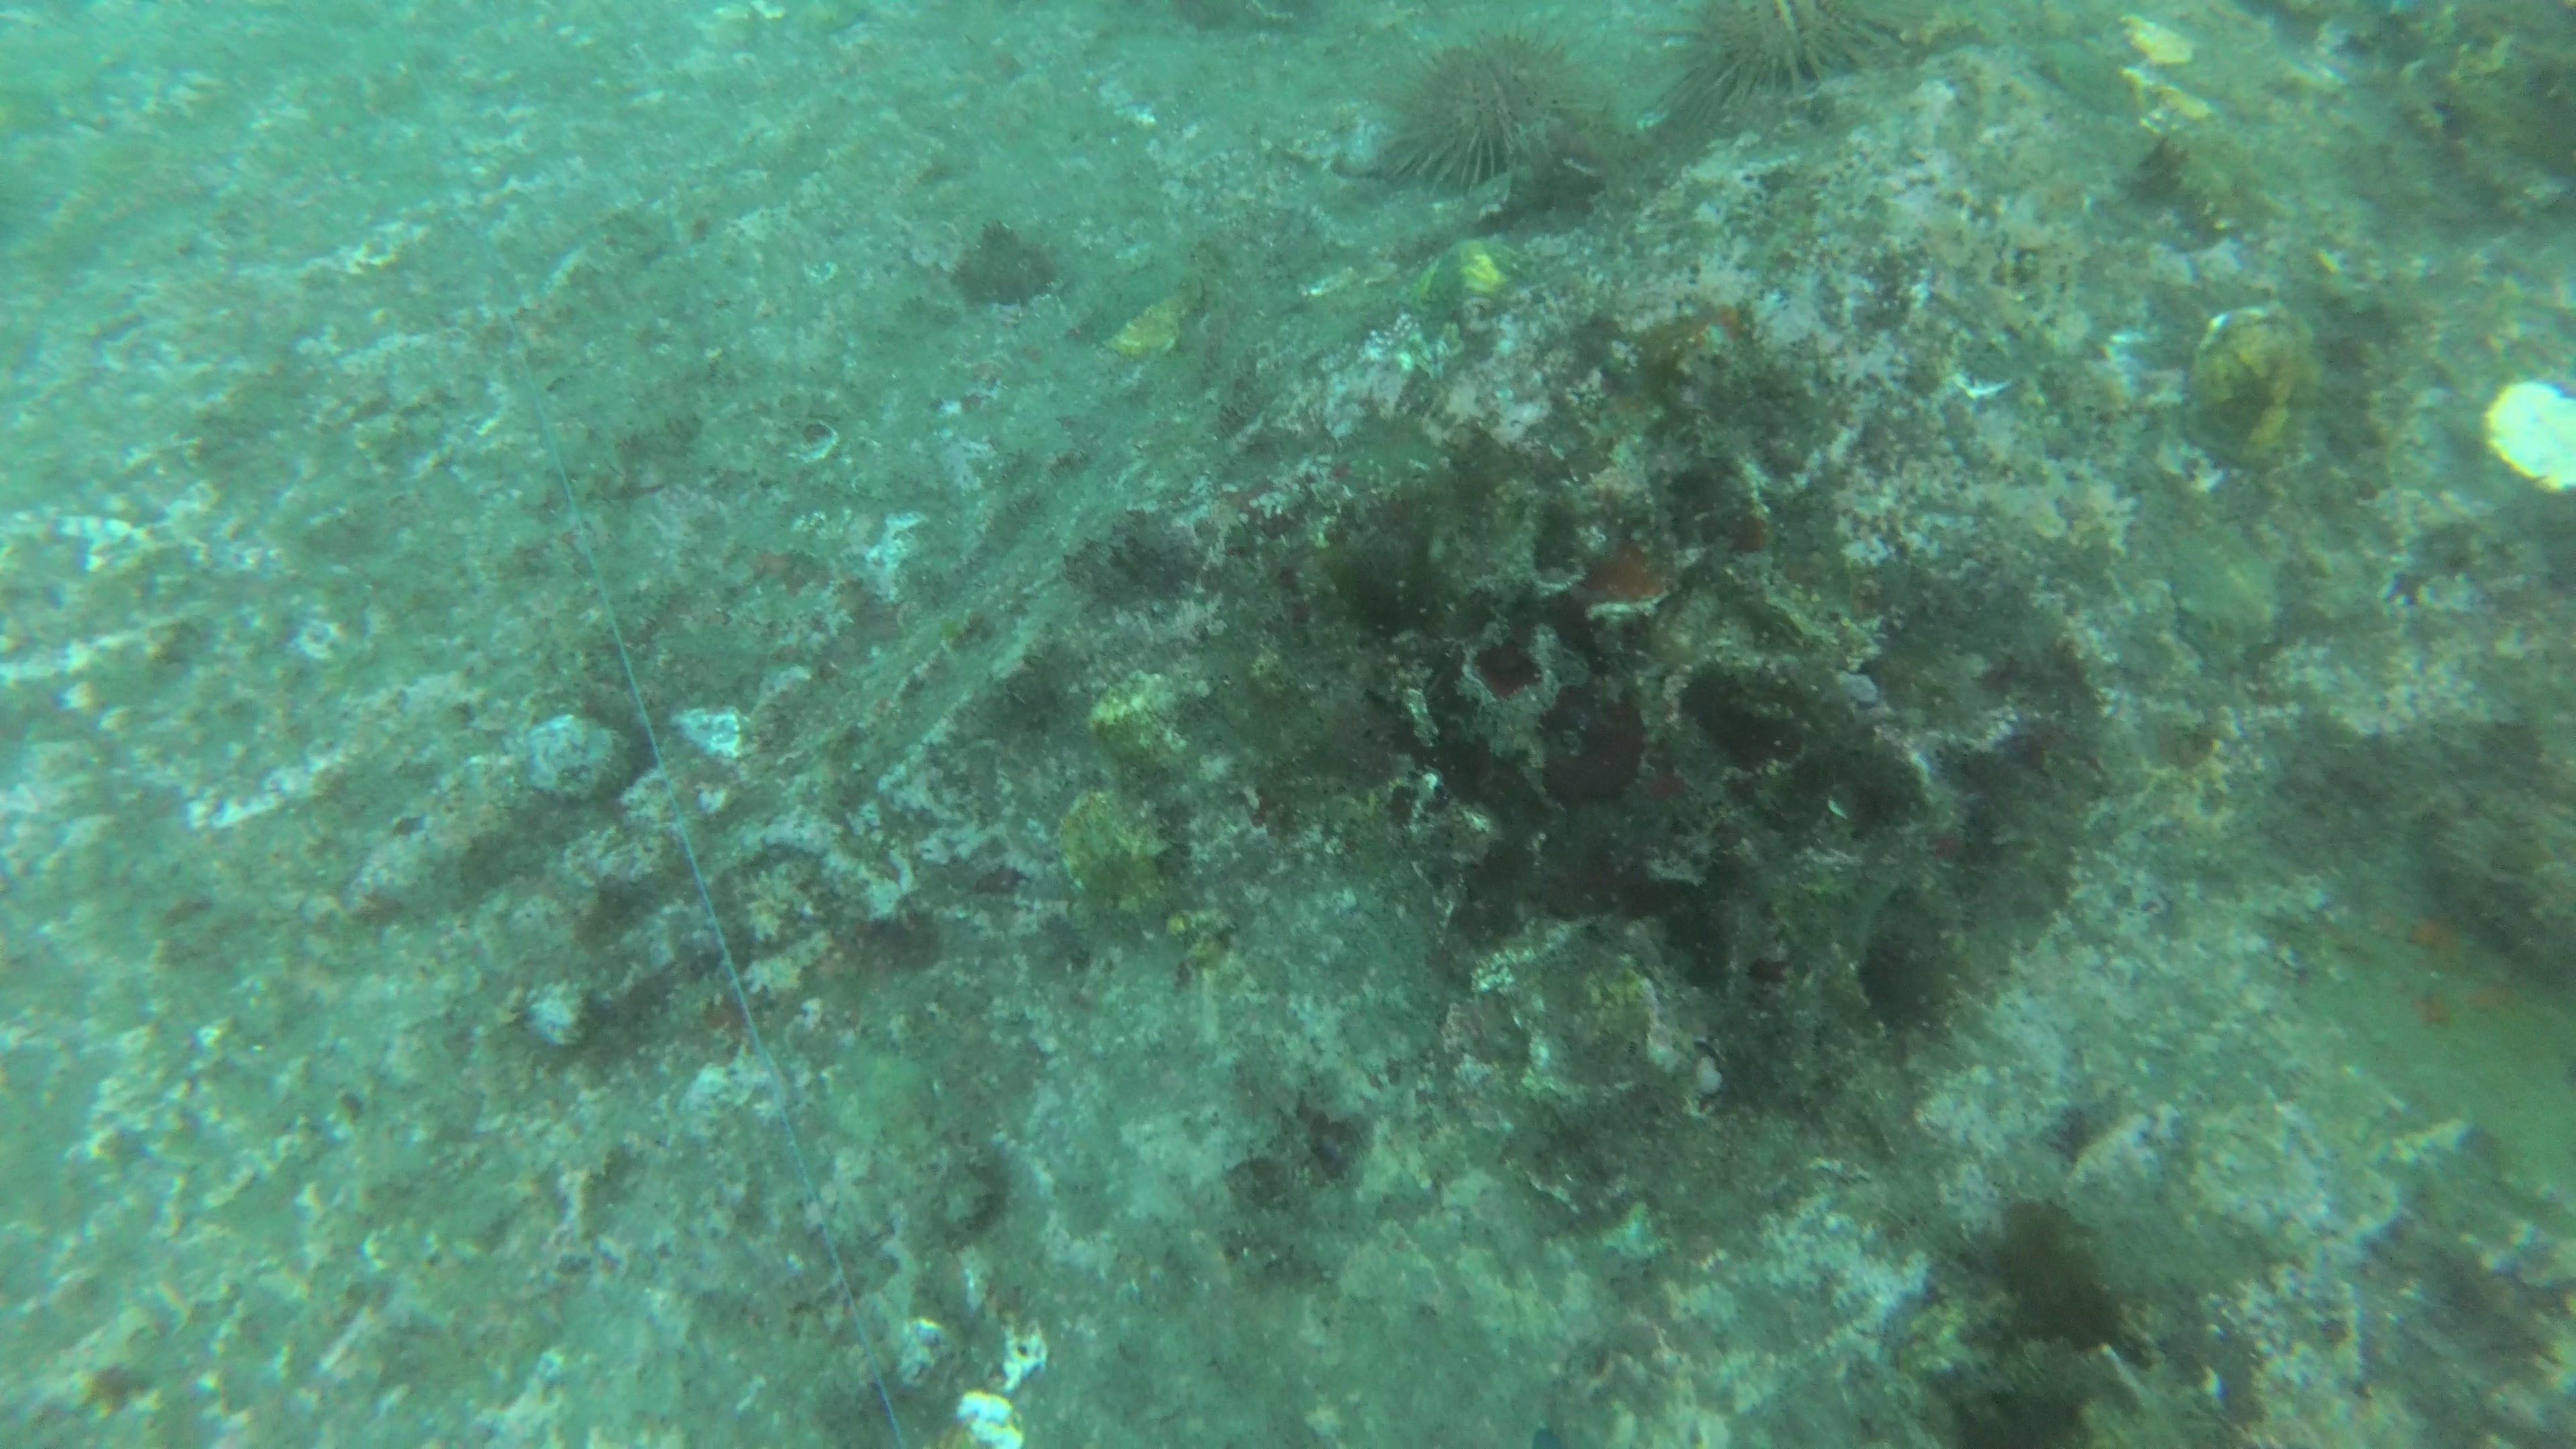echinus: (1373, 21, 1605, 196), (1660, 2, 1907, 111)
